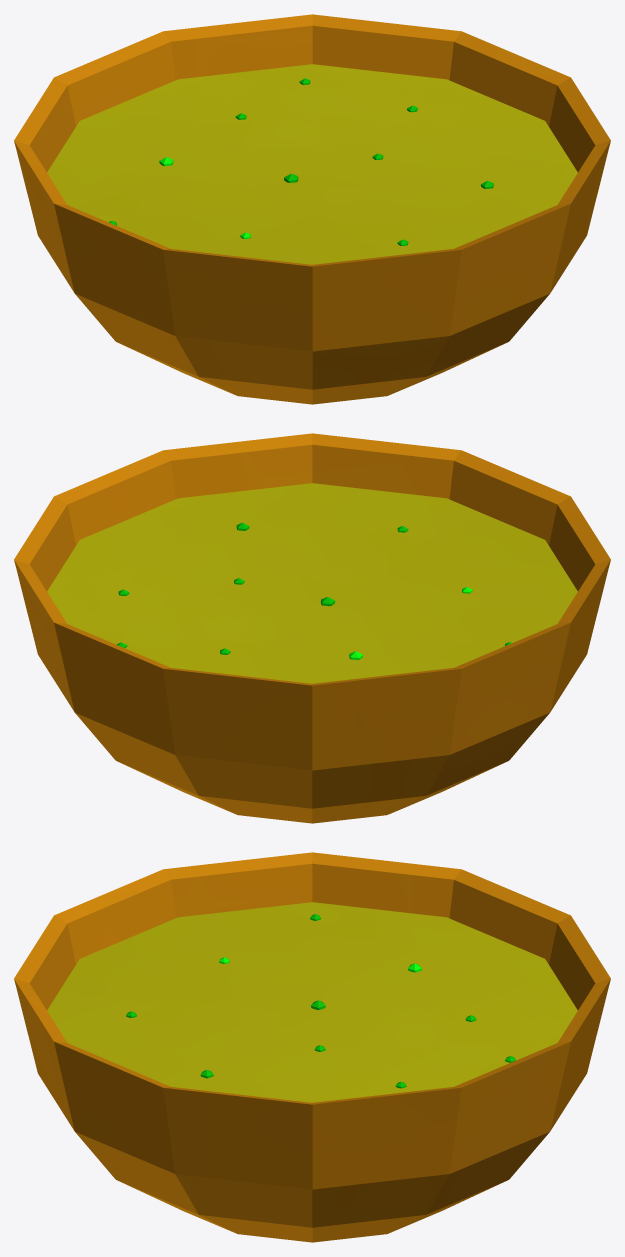
Rendered from Soup.fbx.
3 renders of one model, top to bottom at view 1: azimuth 30°, elevation 25°; view 2: azimuth 150°, elevation 25°; view 3: azimuth 270°, elevation 25°, orthographic.
Visible parts, largest first — view 1: Soup; view 2: Soup; view 3: Soup.
Boxes of the visible parts, box(x1,y1,x2,y2) form: Soup: box(14, 14, 610, 404); Soup: box(14, 433, 610, 823); Soup: box(14, 852, 610, 1242).
Bounding box in the file's own units: 11.23 × 4.17 × 11.23.
